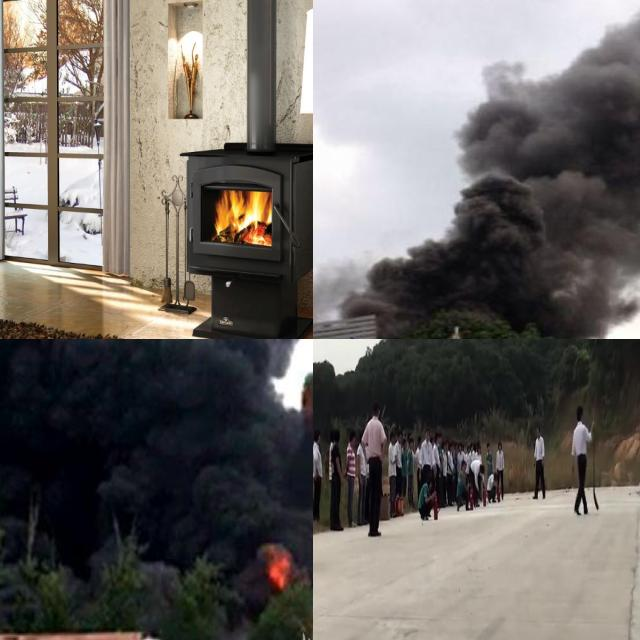fire: (214, 186, 271, 246), (170, 31, 202, 70), (266, 549, 291, 587)
smoke: (329, 0, 640, 339), (0, 339, 313, 630)
